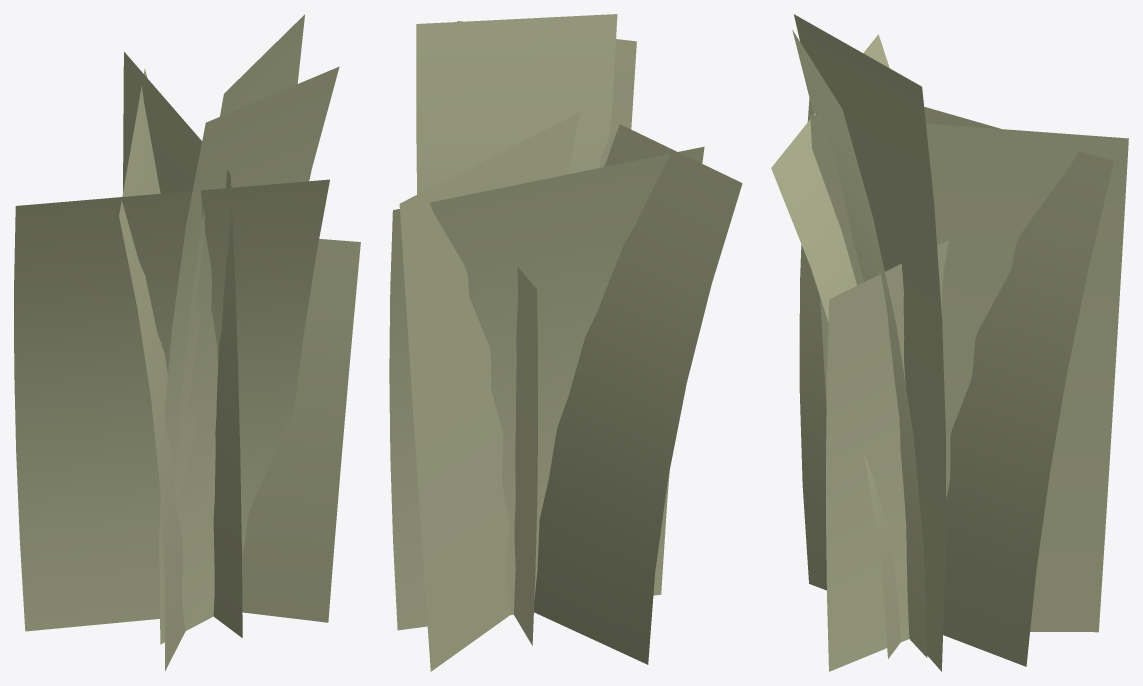
Rendered from reed2.glb.
3 views of the same model, side by side, from view 1: azimuth 30°, elevation 25°; view 2: azimuth 150°, elevation 25°; view 3: azimuth 270°, elevation 25° (orthographic). The views are drawn at different scales.
Visible parts, largest first — view 1: reed2; view 2: reed2; view 3: reed2.
Part boxes in pixels (box(x1,y1,x2,y2)): reed2: box(14, 14, 360, 670); reed2: box(389, 14, 742, 671); reed2: box(771, 14, 1128, 671).
Size of the model in its own units: 0.9227 by 1.57 by 0.8516.
